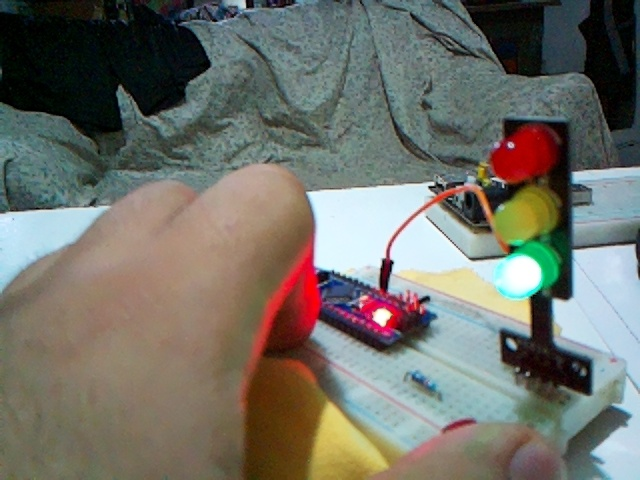traffic_light_green: (489, 118, 592, 394)
